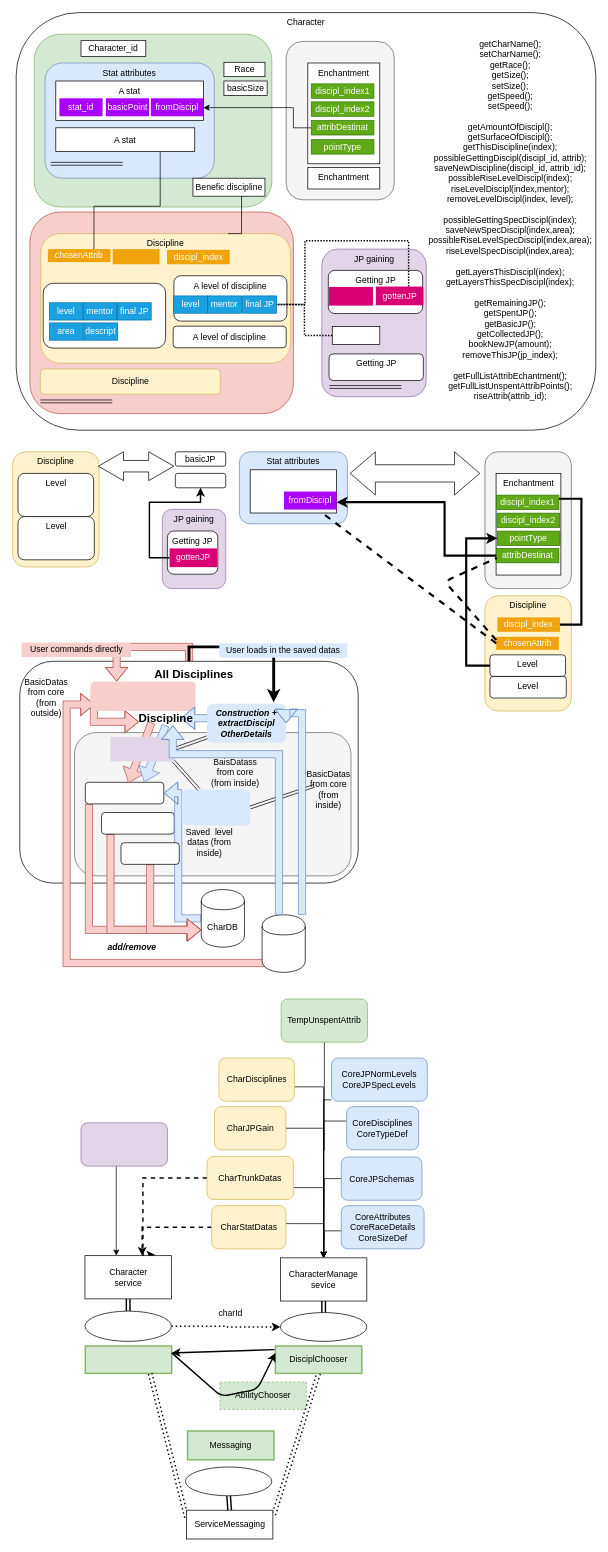
Image size: 608x1552. Some labels were removed from this diagram. Each missing label, with the box of its shape:
A spec level: (42, 283, 166, 348)
attrib from Diciplines: (349, 451, 480, 495)
Basic JP: (332, 326, 380, 345)
Characters Review: (84, 1345, 172, 1374)
collectedJP: (175, 473, 226, 488)
CoreCharactersList: (80, 1122, 167, 1166)
CoreDB: (261, 914, 305, 972)
discipl_id: (112, 249, 159, 264)
Discipline collections: (29, 211, 293, 414)
ExtractDiscipline OtherDetails (from outside): (181, 789, 250, 825)
JP: (98, 451, 174, 481)
jp_index: (329, 287, 373, 305)
Level1: (85, 782, 164, 804)
Level2: (101, 812, 174, 834)
Level3: (120, 842, 179, 864)
ManageControler: (280, 1312, 367, 1341)
MessagingController: (185, 1466, 272, 1496)
New DSCP Contstruction + baisc datas: (90, 681, 195, 711)
new Level Construction: (110, 737, 174, 761)
RenviewController: (84, 1310, 171, 1341)
Specified stat: (249, 469, 337, 513)
Stat echances: (285, 41, 394, 200)
Stat enchantment: (484, 451, 571, 589)
Trunk attributes: (33, 33, 272, 207)
